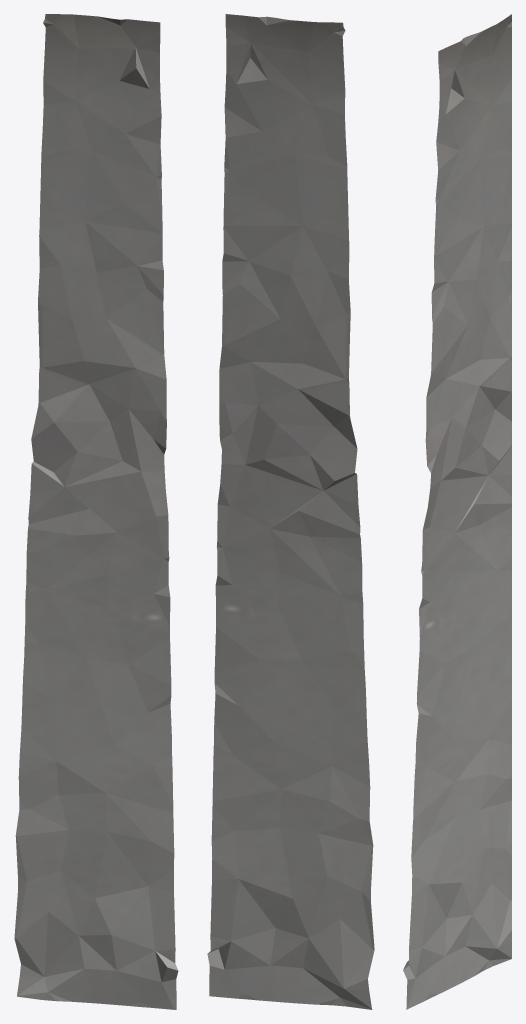
3 renders of one model, left to right at view 1: azimuth 30°, elevation 25°; view 2: azimuth 210°, elevation 25°; view 3: azimuth 270°, elevation 25°, orthographic. The views are drawn at different scales.
Bounding box in the file's own units: 0.195 × 1.67 × 0.1725.
1 material, 1 textured.
